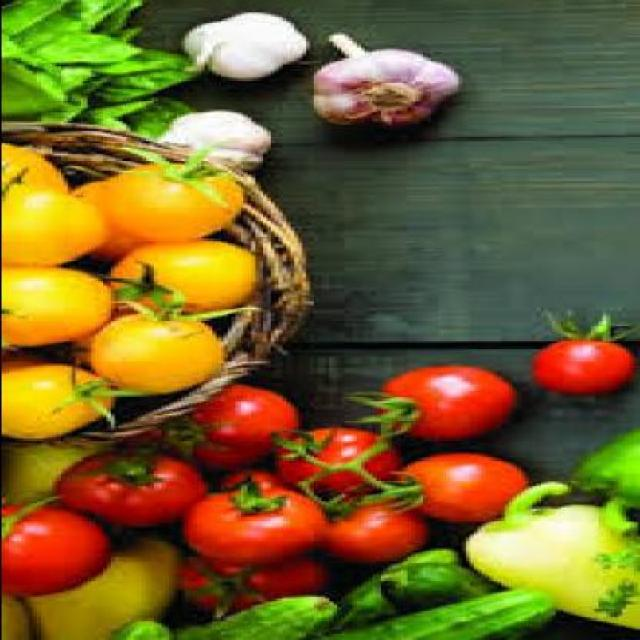BIODEGRADABLE: (457, 486, 635, 632), (18, 538, 177, 638), (1, 2, 137, 118), (117, 386, 292, 472), (305, 33, 457, 129), (94, 149, 238, 243), (339, 368, 512, 442), (315, 550, 457, 636), (47, 452, 199, 532), (179, 486, 321, 569), (105, 242, 250, 322), (71, 320, 218, 397), (308, 592, 550, 638), (2, 506, 109, 603), (379, 456, 526, 526), (168, 558, 320, 622), (527, 312, 636, 398), (2, 357, 109, 443), (2, 271, 106, 354), (266, 430, 394, 496), (175, 15, 300, 82), (1, 185, 94, 269), (566, 432, 636, 534), (2, 442, 102, 512), (70, 186, 164, 260), (152, 114, 266, 174), (316, 501, 421, 565), (47, 382, 176, 432), (171, 598, 332, 638), (372, 565, 492, 618), (82, 52, 192, 108), (2, 62, 66, 120), (79, 100, 183, 135), (590, 543, 636, 617), (1, 147, 62, 196), (38, 36, 137, 66), (1, 2, 62, 40), (210, 474, 284, 492), (101, 622, 172, 638), (2, 600, 23, 638)
